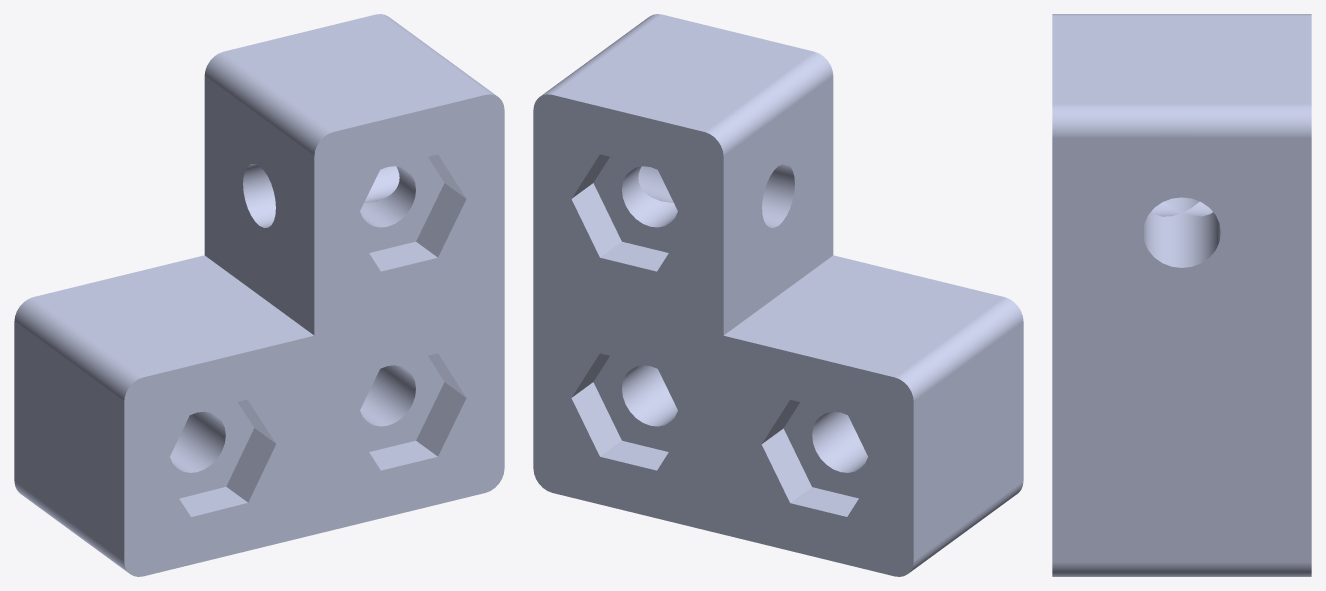
3 renders of one model, left to right at view 1: azimuth 30°, elevation 25°; view 2: azimuth 150°, elevation 25°; view 3: azimuth 270°, elevation 25°, orthographic. The views are drawn at different scales.
Parts seen in each view (by area): view 1: L3N; view 2: L3N; view 3: L3N.
Part boxes in pixels (x1,y1,x2,y2): L3N: (14,14,504,576); L3N: (533,14,1023,576); L3N: (1052,14,1311,576).
Bounding box in the file's own units: 0.02 × 0.02 × 0.01.
